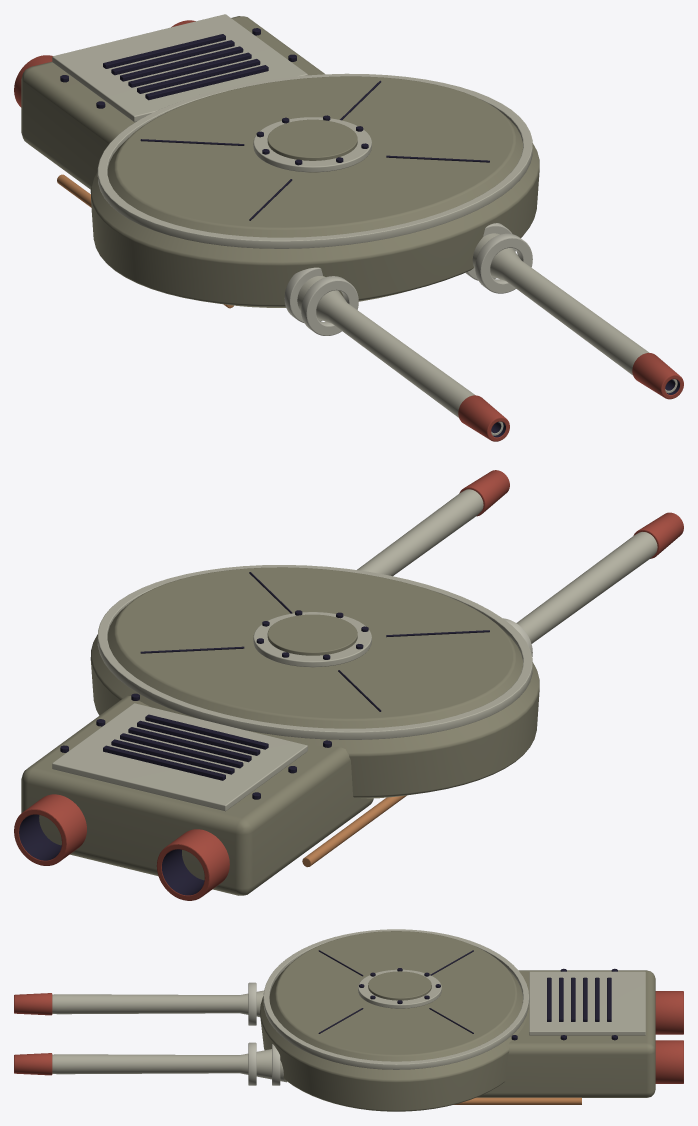
3 views of the same model, one above another, from view 1: azimuth 30°, elevation 25°; view 2: azimuth 150°, elevation 25°; view 3: azimuth 270°, elevation 25° (orthographic). The views are drawn at different scales.
Parts seen in each view (by area): view 1: Photon low pressure casing, Photon rear equipment top cover, Photon rear equipment block, Photon perimeter lip, Photon paired barrel -1, Photon paired barrel 1, Photon cap inset, Photon circular dorsal access cap, Photon paired barrel 1 breech collar.001, Photon paired barrel -1 breech collar.001, Photon paired barrel -1 red muzzle sleeve, Photon paired barrel 1 red muzzle sleeve (+7 smaller); view 2: Photon low pressure casing, Photon rear equipment block, Photon rear equipment top cover, Photon perimeter lip, Photon paired barrel -1, Photon paired barrel 1, Photon rear connector, Photon rear connector.001, Photon cap inset, Photon circular dorsal access cap, Photon copper feed, Photon paired barrel 1 red muzzle sleeve (+7 smaller); view 3: Photon low pressure casing, Photon rear equipment block, Photon rear equipment top cover, Photon paired barrel 1, Photon perimeter lip, Photon paired barrel -1, Photon cap inset, Photon rear connector, Photon rear connector.001, Photon circular dorsal access cap, Photon copper feed.001, Photon paired barrel -1 red muzzle sleeve (+4 smaller).
Boxes of the visible parts, x1,y1,x2,y2 form: Photon low pressure casing: (90, 76, 539, 307); Photon rear equipment top cover: (52, 14, 307, 122); Photon rear equipment block: (21, 16, 324, 189); Photon perimeter lip: (97, 73, 532, 248); Photon paired barrel -1: (297, 276, 503, 435); Photon paired barrel 1: (472, 233, 677, 393); Photon cap inset: (267, 119, 357, 160); Photon circular dorsal access cap: (253, 117, 371, 172); Photon paired barrel 1 breech collar.001: (475, 233, 532, 293); Photon paired barrel -1 breech collar.001: (301, 276, 358, 335); Photon paired barrel -1 red muzzle sleeve: (458, 395, 509, 441); Photon paired barrel 1 red muzzle sleeve: (632, 353, 683, 399); Photon low pressure casing: (90, 567, 539, 798); Photon rear equipment block: (21, 695, 373, 895); Photon rear equipment top cover: (52, 703, 307, 811); Photon perimeter lip: (97, 565, 532, 739); Photon paired barrel -1: (516, 532, 657, 643); Photon paired barrel 1: (357, 489, 483, 576); Photon rear connector: (156, 829, 229, 900); Photon rear connector.001: (14, 794, 86, 865); Photon cap inset: (267, 614, 357, 655); Photon circular dorsal access cap: (253, 612, 371, 667); Photon copper feed: (302, 795, 406, 867); Photon paired barrel 1 red muzzle sleeve: (459, 470, 509, 516); Photon low pressure casing: (260, 931, 528, 1111); Photon rear equipment block: (476, 970, 655, 1097); Photon rear equipment top cover: (529, 971, 645, 1035); Photon paired barrel 1: (52, 1049, 286, 1082); Photon perimeter lip: (263, 929, 529, 1069); Photon paired barrel -1: (52, 990, 263, 1016); Photon cap inset: (368, 971, 431, 1000); Photon rear connector: (655, 991, 683, 1034); Photon rear connector.001: (655, 1040, 683, 1083); Photon circular dorsal access cap: (358, 969, 441, 1008); Photon copper feed.001: (454, 1097, 581, 1104); Photon paired barrel -1 red muzzle sleeve: (14, 993, 52, 1015).
Bounding box in the file's own units: 1.82 × 0.475 × 3.68.
